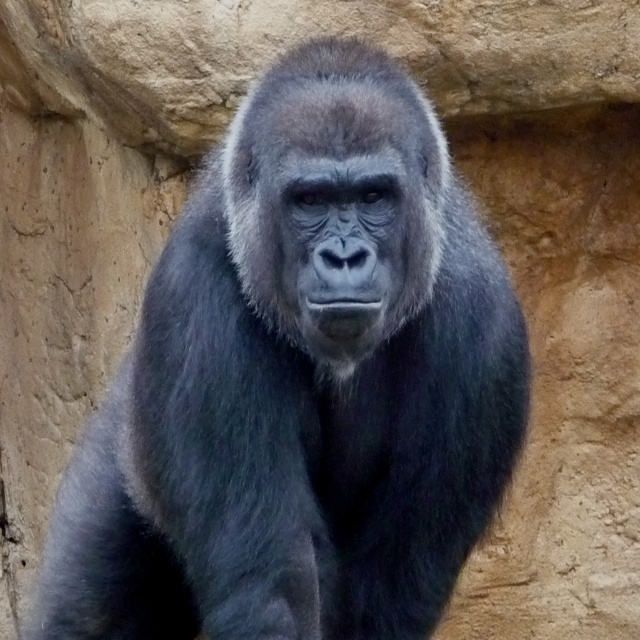Monkey: (26, 31, 539, 638)
